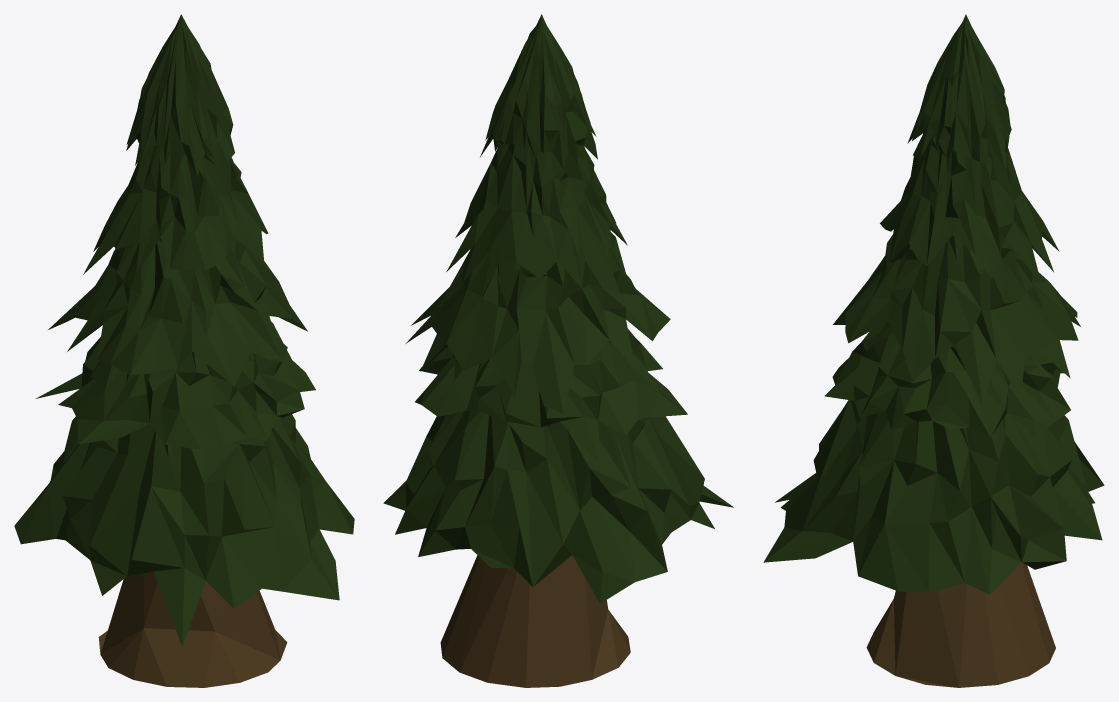
File: pino-4_lowpoly.fbx
3 views of the same model, side by side, from view 1: azimuth 30°, elevation 25°; view 2: azimuth 150°, elevation 25°; view 3: azimuth 270°, elevation 25° (orthographic).
Visible parts, largest first — view 1: Cylinder.009, Cylinder.012, Cylinder.011, Cylinder.010, Cylinder.013, Cylinder.014; view 2: Cylinder.009, Cylinder.012, Cylinder.010, Cylinder.013, Cylinder.011, Cylinder.014; view 3: Cylinder.009, Cylinder.012, Cylinder.010, Cylinder.011, Cylinder.013, Cylinder.014.
Part boxes in pixels (left/top/right/bottom): Cylinder.009: left=14, top=414, right=354, bottom=646; Cylinder.012: left=48, top=238, right=307, bottom=386; Cylinder.011: left=35, top=321, right=315, bottom=449; Cylinder.010: left=98, top=571, right=287, bottom=687; Cylinder.013: left=83, top=139, right=268, bottom=274; Cylinder.014: left=126, top=14, right=234, bottom=176; Cylinder.009: left=383, top=410, right=733, bottom=603; Cylinder.012: left=405, top=232, right=670, bottom=413; Cylinder.010: left=440, top=555, right=630, bottom=687; Cylinder.013: left=446, top=143, right=627, bottom=293; Cylinder.011: left=415, top=328, right=687, bottom=464; Cylinder.014: left=480, top=14, right=597, bottom=169; Cylinder.009: left=763, top=400, right=1104, bottom=594; Cylinder.012: left=833, top=235, right=1080, bottom=404; Cylinder.010: left=866, top=562, right=1055, bottom=687; Cylinder.011: left=824, top=321, right=1070, bottom=437; Cylinder.013: left=880, top=132, right=1059, bottom=282; Cylinder.014: left=907, top=14, right=1011, bottom=171.
Bounding box in the file's own units: 2259 × 4752 × 2329.
